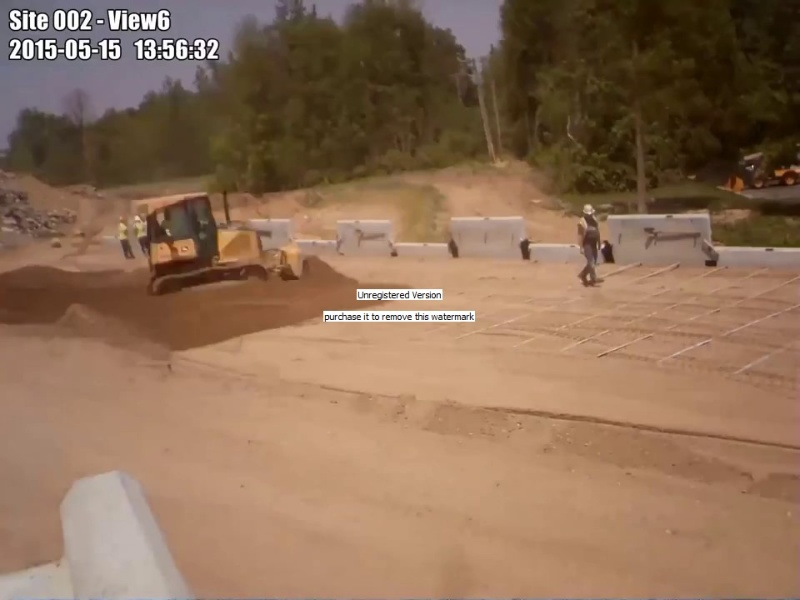bulldozer: (142, 192, 303, 297), (721, 150, 800, 193)
hardhat: (583, 205, 596, 214), (136, 216, 141, 221), (117, 216, 121, 220)
person: (577, 204, 599, 288), (117, 214, 135, 261), (133, 216, 148, 259)
wall: (300, 212, 800, 271)
